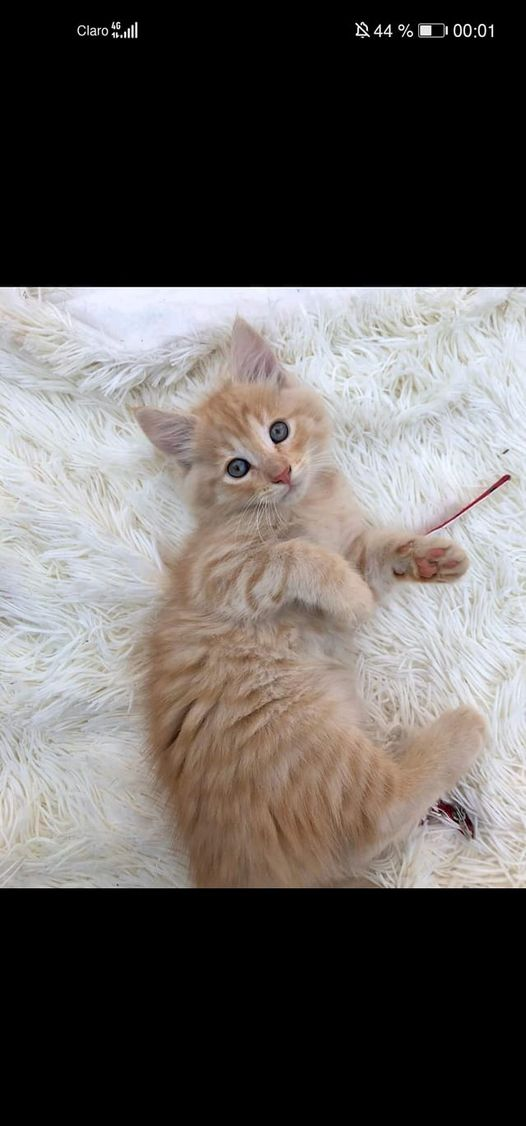cat: (104, 299, 496, 889)
